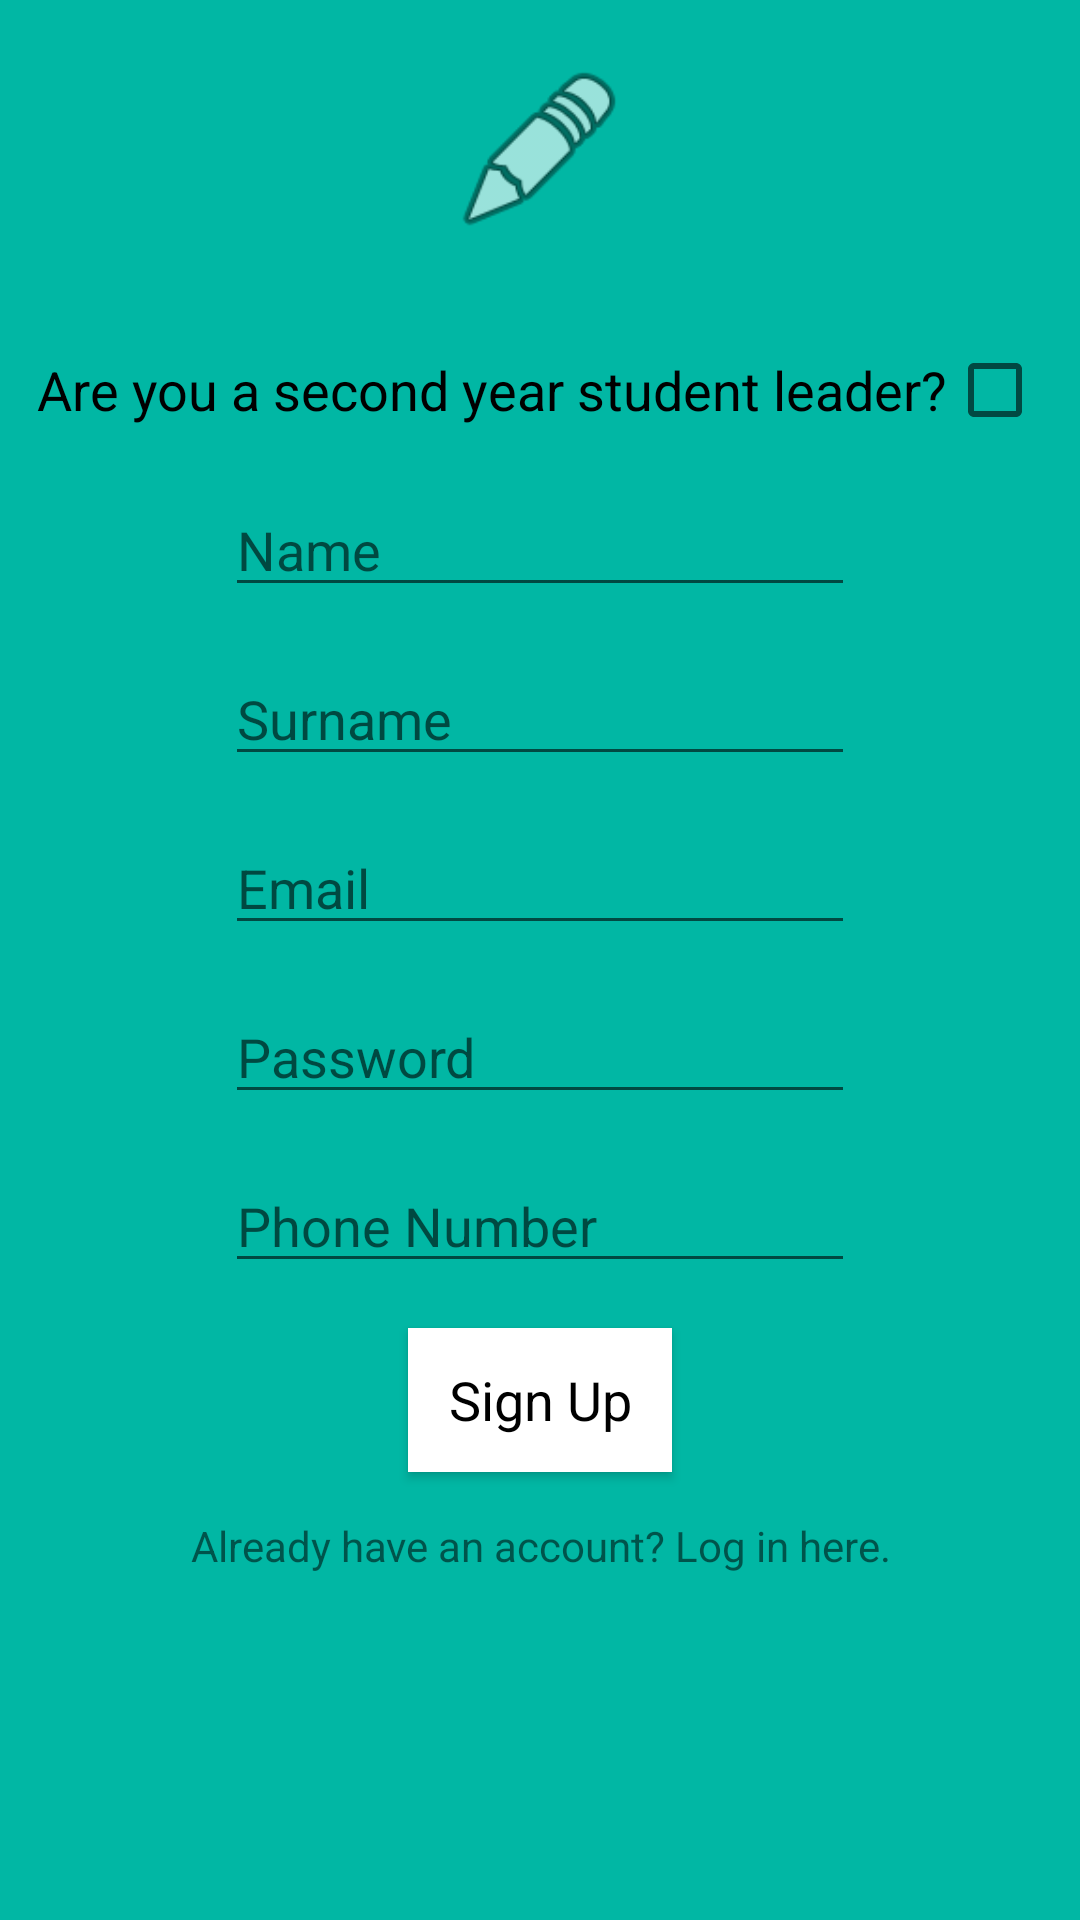

Icon click points for this 1080px x 1920px phone screenshot, format (x=x, y=y):
edit: (x=539, y=149)
